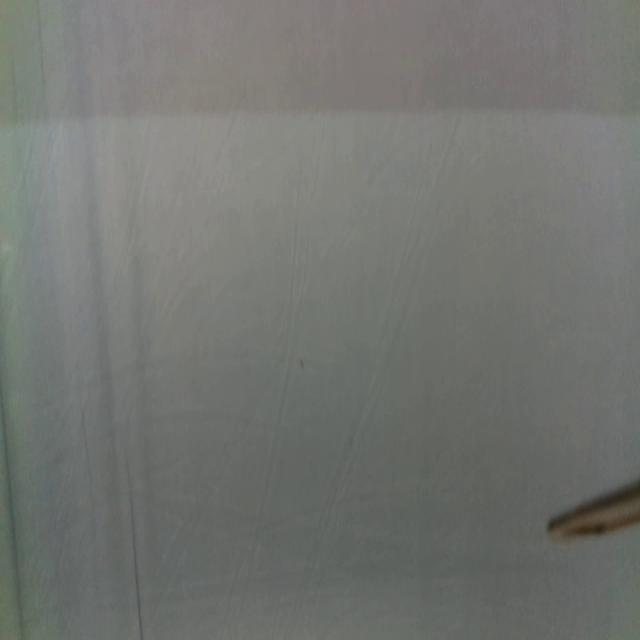color bleeding: (0, 0, 640, 152)
crease: (0, 379, 23, 607), (125, 459, 144, 637)
hole: (298, 355, 307, 373)
